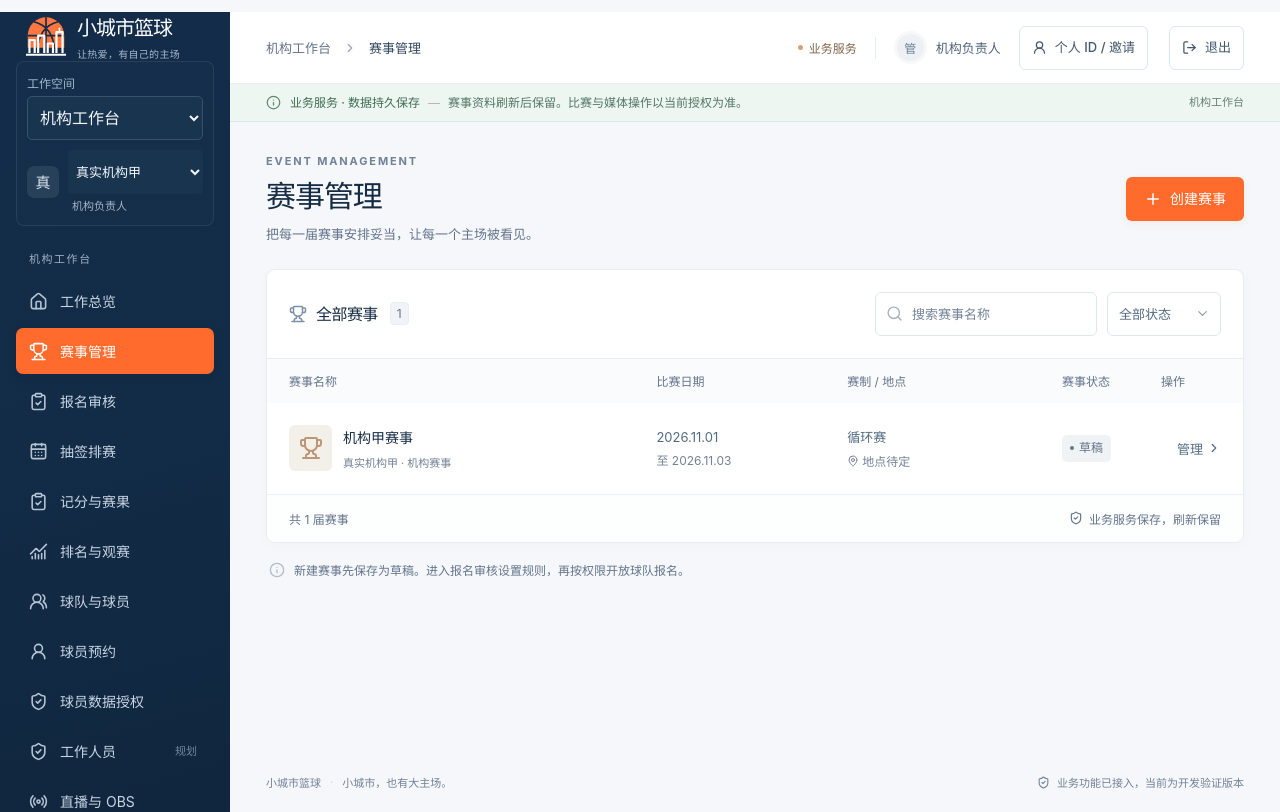
Test: API模式登录与机构边界 › 切换机构清除旧列表和写入口，不能把旧机构数据留在新机构
Expected: the link "机构甲赛事" is shown, [343,429,413,446]
Expected: the link "创建赛事" is shown, [1126,177,1244,221]
Select "真实机构乙" in the dropdown named "切换机构" at [136, 172], box [68,150,203,194]
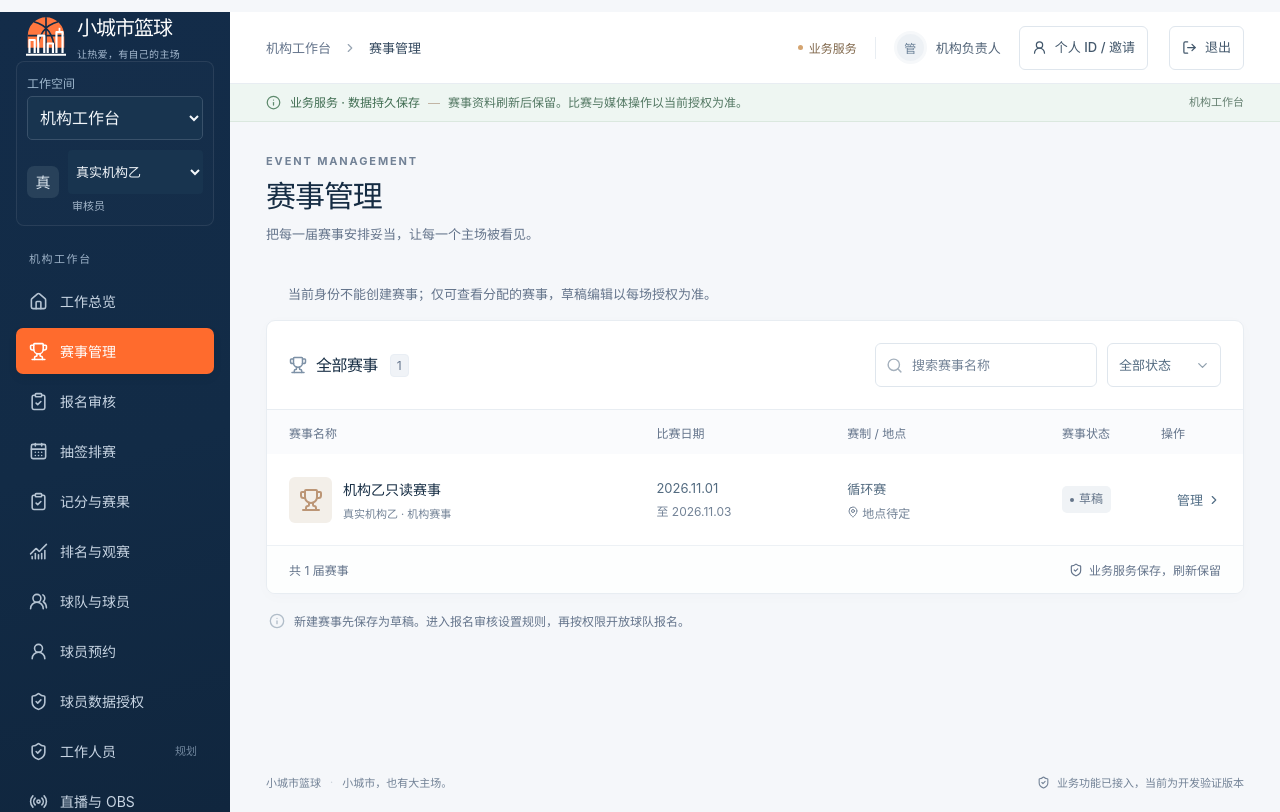
Expected: the link "机构乙只读赛事" is shown, [343,479,451,501]
Expected: the link "机构甲赛事" is gone
